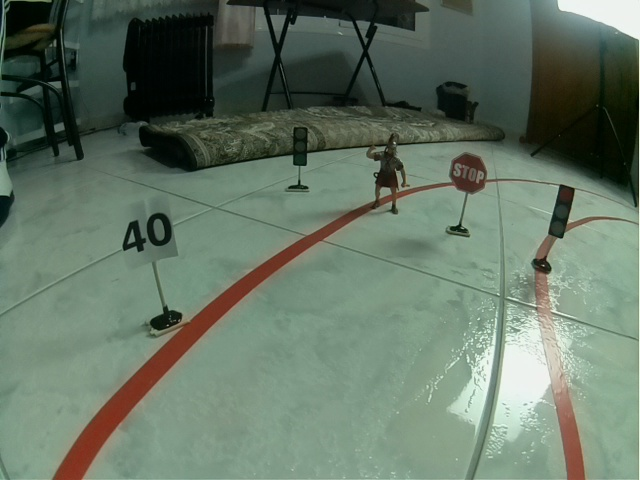Green Traffic Light: (293, 127, 308, 167)
Person: (366, 132, 410, 215)
Red Traffic Light: (548, 184, 575, 239)
Speed Limit 40: (118, 199, 178, 269)
Stop: (448, 151, 488, 196)
